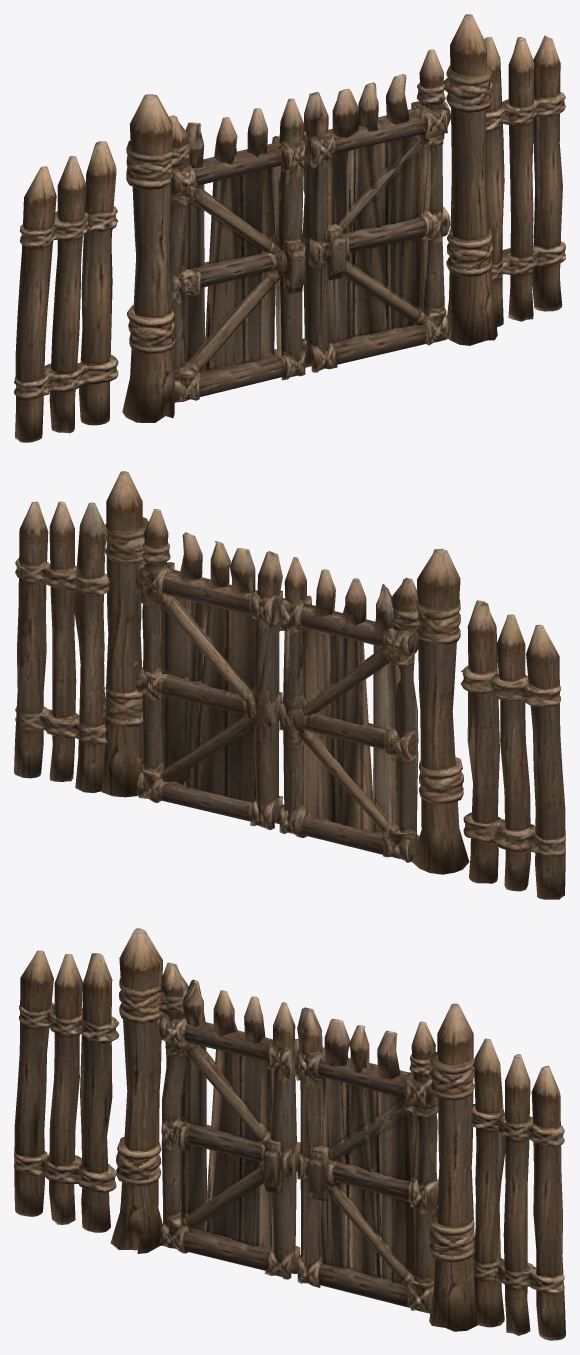
The model's file is shelter_t1_gate.glb.
The picture shows the model from 3 angles, top to bottom: view 1: azimuth 30°, elevation 25°; view 2: azimuth 150°, elevation 25°; view 3: azimuth 330°, elevation 25°; orthographic projection.
Size of the model in its own units: 0.4067 by 0.2251 by 0.0376.
Materials: 1 (1 with a texture image).
